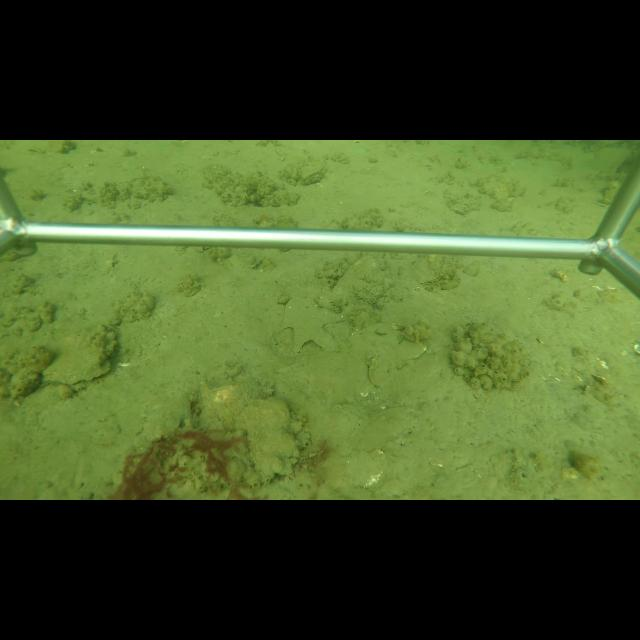Oyster-Closed: (40, 320, 119, 387), (238, 396, 298, 482), (298, 158, 328, 185)
